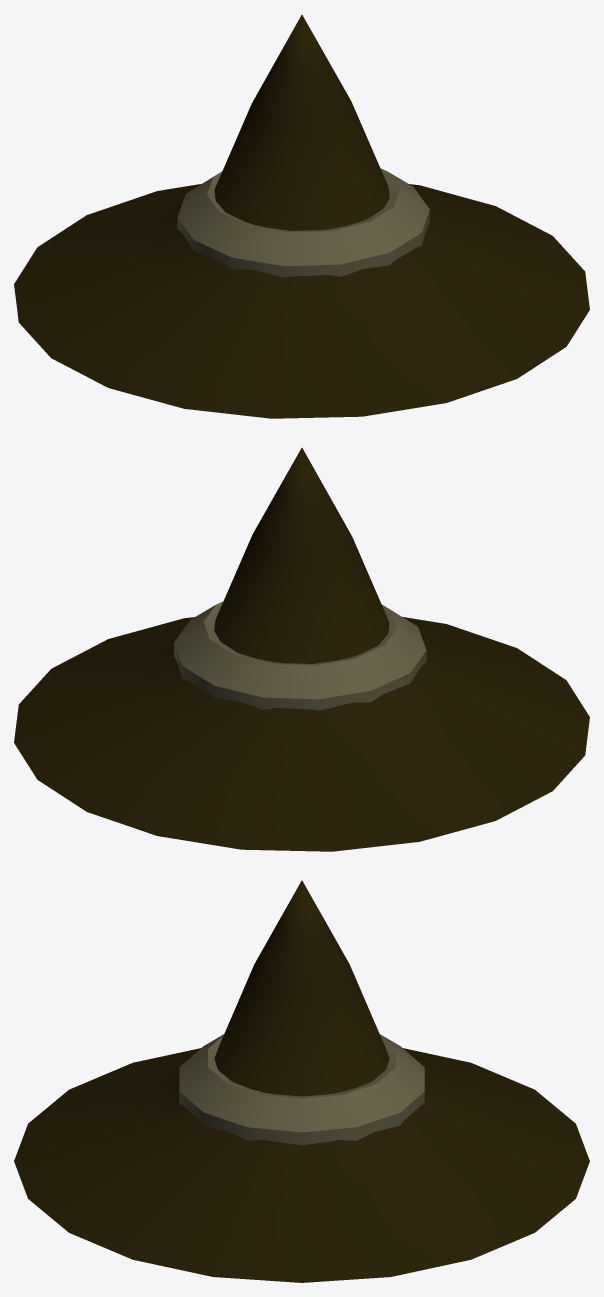
The model's file is LostWizardHat.fbx.
3 renders of one model, top to bottom at view 1: azimuth 30°, elevation 25°; view 2: azimuth 150°, elevation 25°; view 3: azimuth 270°, elevation 25°, orthographic.
Visible parts, largest first — view 1: pTorus2; view 2: pTorus2; view 3: pTorus2.
Boxes of the visible parts, bbox=[...] form: pTorus2: bbox=[14, 15, 589, 418]; pTorus2: bbox=[14, 448, 589, 851]; pTorus2: bbox=[14, 880, 589, 1282].
Size of the model in its own units: 4.59 by 2.47 by 4.59.
